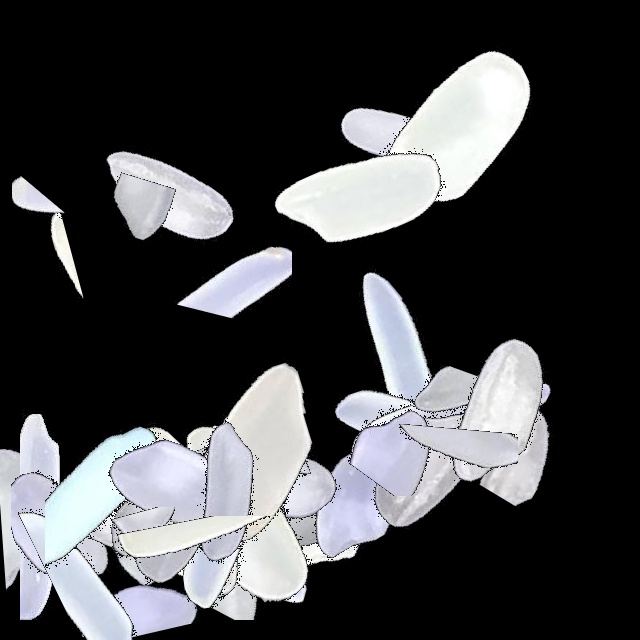Broken: (11, 390, 176, 640), (45, 390, 208, 640), (129, 460, 379, 620), (461, 303, 619, 553), (293, 348, 543, 496), (0, 495, 250, 640), (19, 390, 157, 640), (0, 500, 250, 637), (367, 302, 617, 439), (0, 390, 130, 640), (389, 368, 518, 618), (402, 314, 528, 564), (168, 128, 292, 378), (71, 111, 188, 361), (117, 397, 367, 511), (94, 516, 344, 621), (273, 337, 523, 423), (12, 132, 95, 382), (39, 507, 289, 589), (0, 476, 250, 557), (6, 187, 86, 437), (193, 390, 271, 640), (0, 468, 250, 546)
Full: (0, 390, 250, 640), (129, 390, 379, 640), (269, 234, 519, 484), (40, 69, 290, 319), (143, 384, 393, 634), (304, 313, 554, 563), (155, 390, 405, 640), (326, 295, 576, 545), (230, 377, 480, 627), (138, 348, 388, 598), (112, 368, 362, 618), (113, 390, 363, 640), (305, 339, 555, 589), (38, 390, 288, 640), (40, 390, 290, 640), (283, 13, 533, 263), (52, 390, 302, 640), (101, 390, 351, 640), (327, 10, 577, 260), (56, 390, 306, 640), (236, 74, 486, 324), (55, 390, 305, 640), (122, 330, 372, 580), (41, 353, 291, 603), (97, 368, 347, 618), (371, 286, 621, 536)
